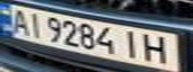2: (60, 18, 81, 48)
4: (93, 25, 118, 55)
8: (78, 21, 96, 52)
9: (42, 15, 63, 44)
A: (6, 7, 33, 36)
H: (139, 32, 175, 65)
I: (118, 28, 145, 60), (24, 10, 48, 38)
